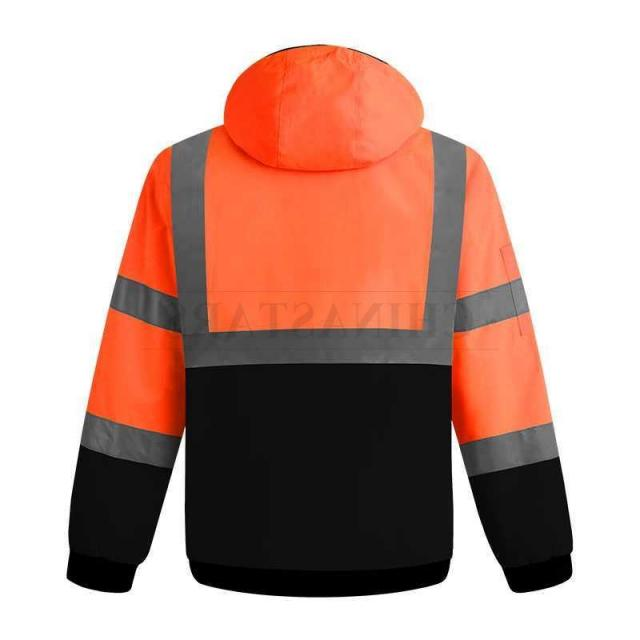Reflective-Jacket: (60, 52, 605, 630)
